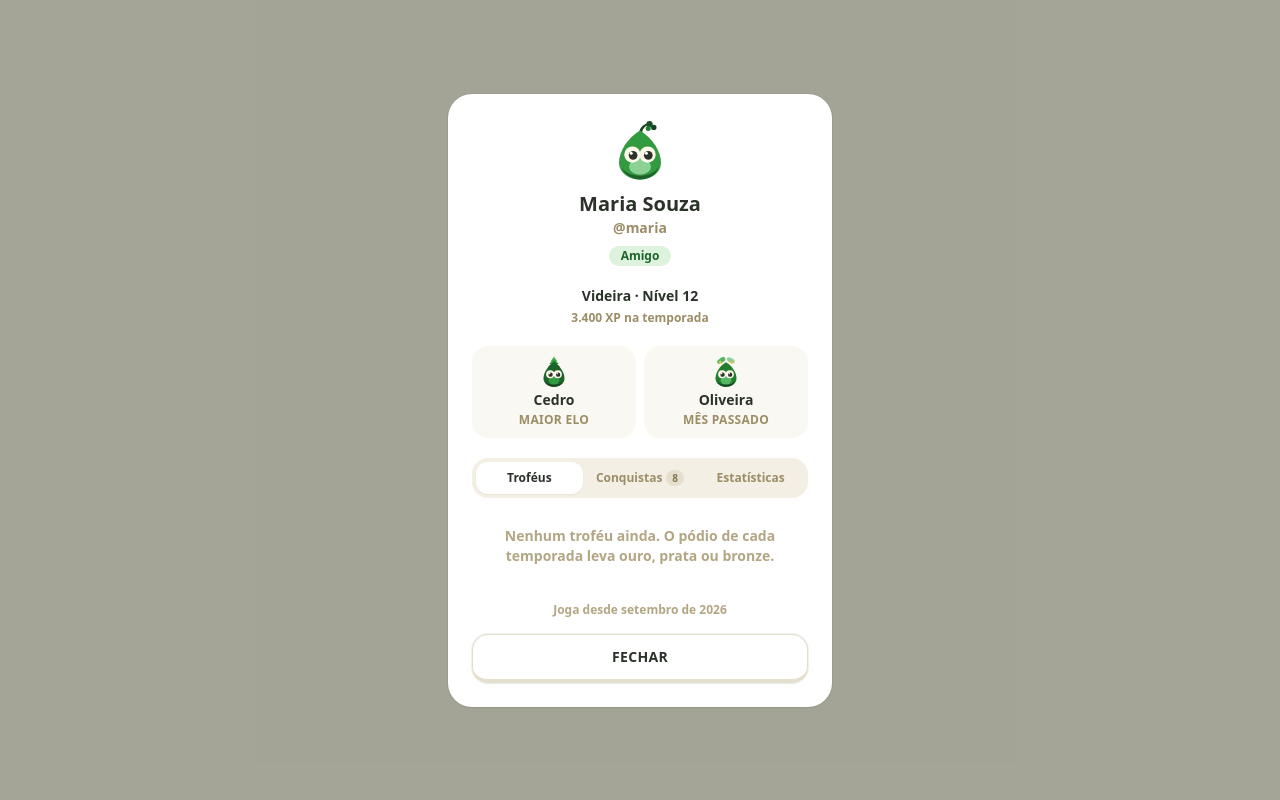
Test case: PlayerProfileModal › opens on trophies and moves between tabs with the arrow keys
Expected: the panel named "Troféus" shows "Nenhum troféu ainda.", [505,526,775,564]
Click the tab "Troféus" at (529, 478), box [476,462,583,494]
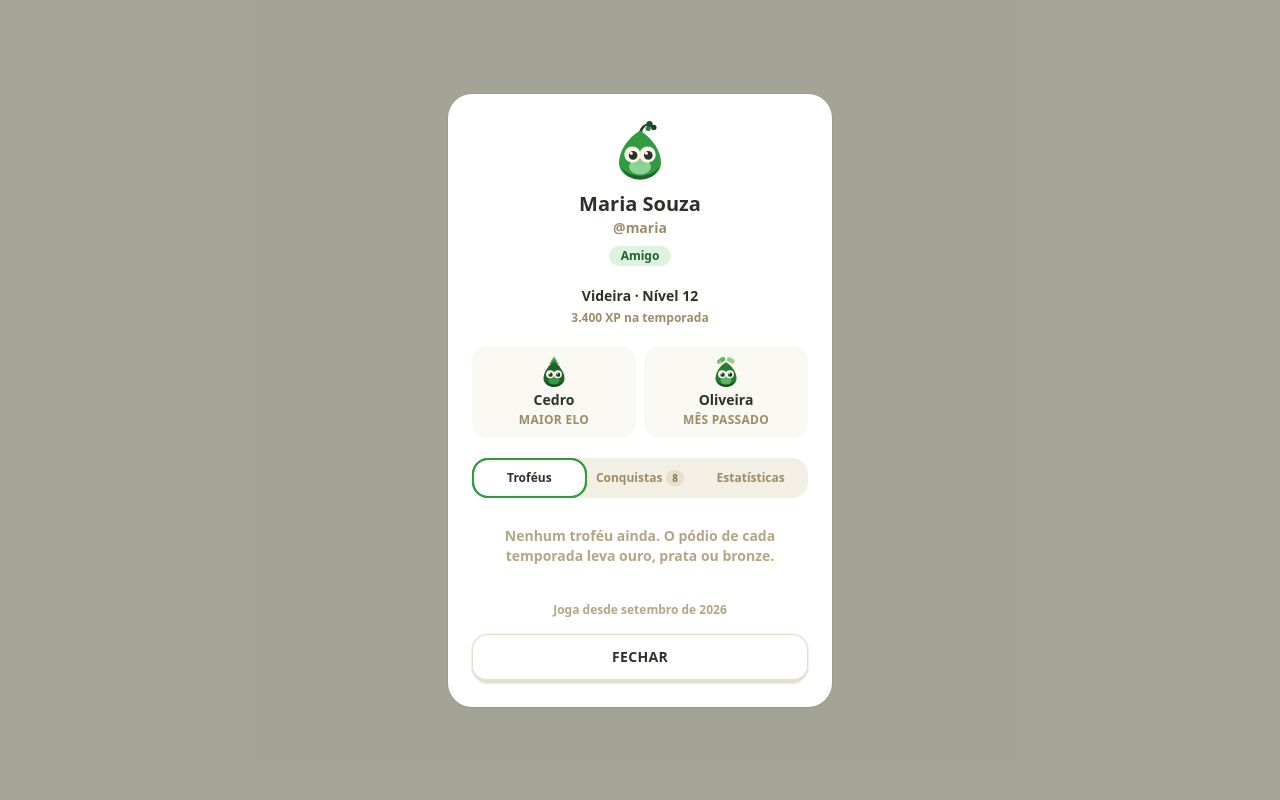
Press Arrowright
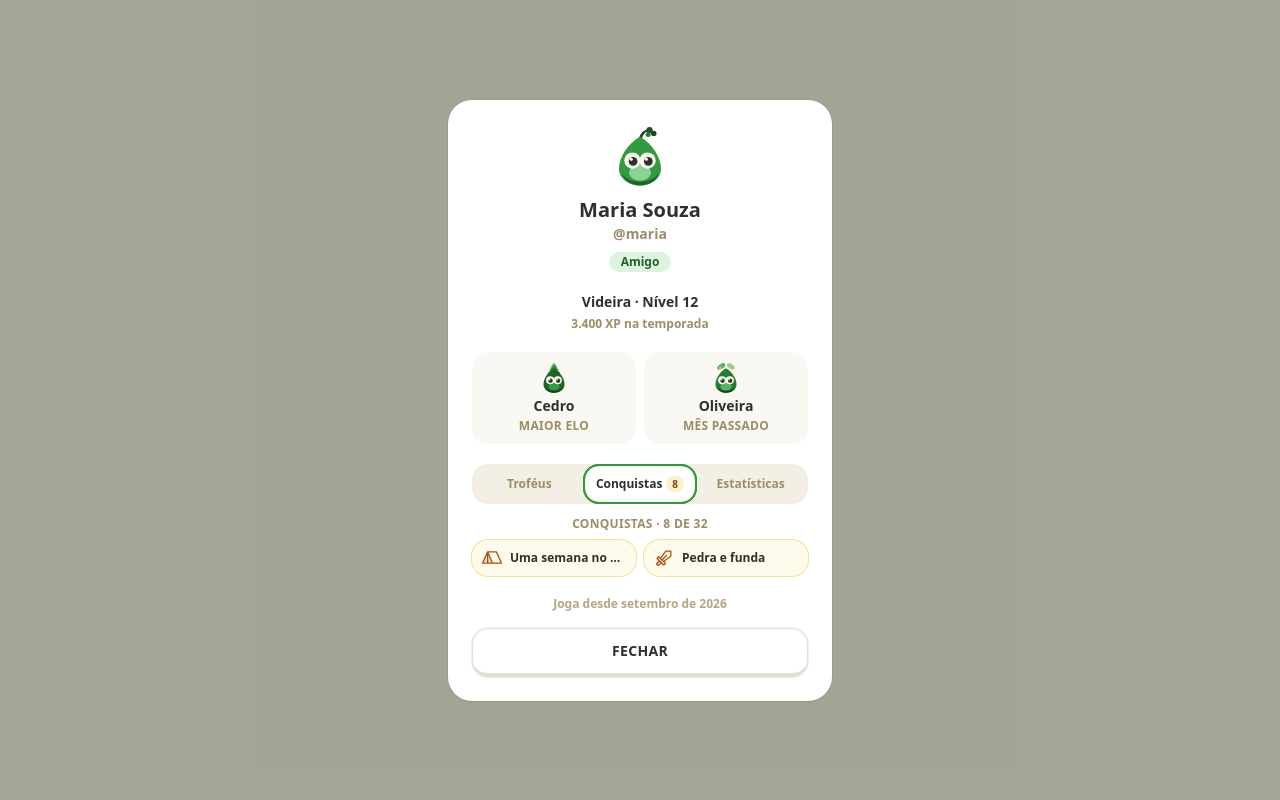
Expected: the panel shows "Conquistas · 8 de 32", [472,516,808,576]
Press Arrowleft Arrowleft
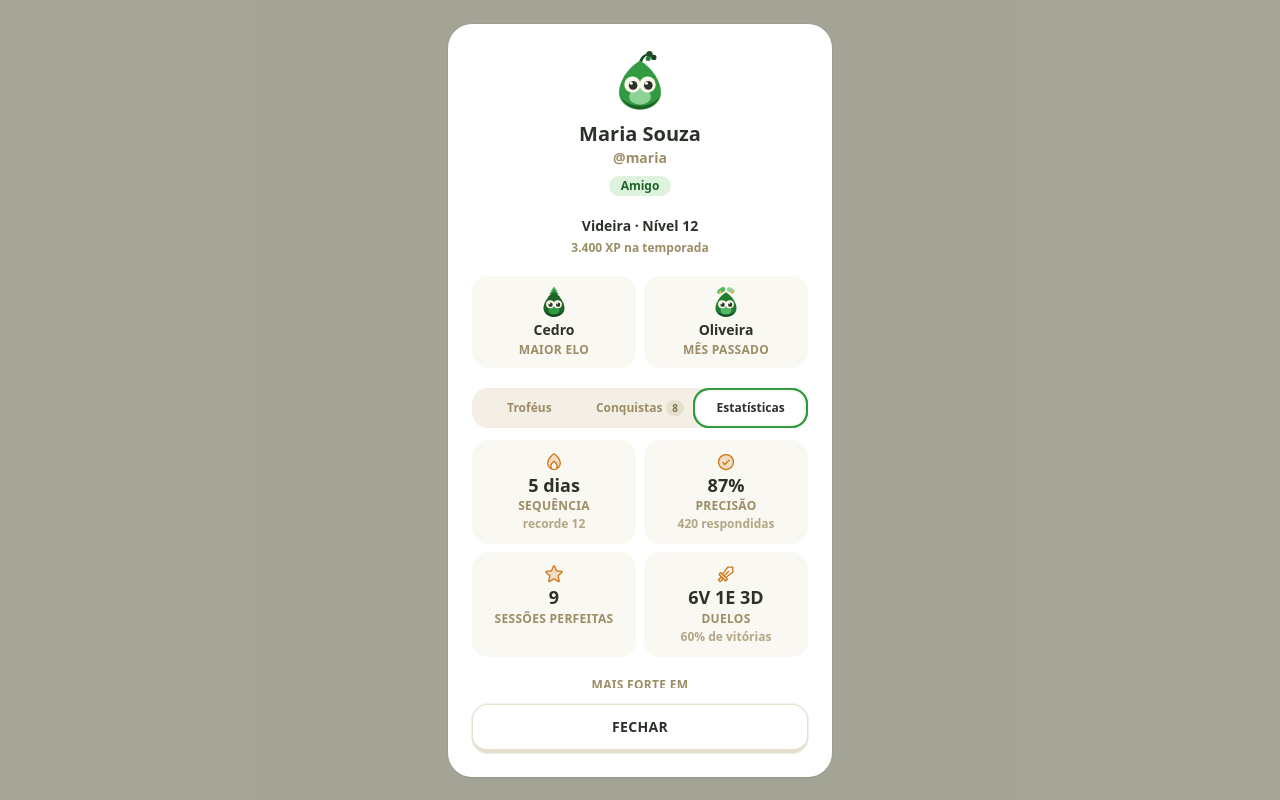
Expected: the panel shows "Sequência", [518,497,590,514]
